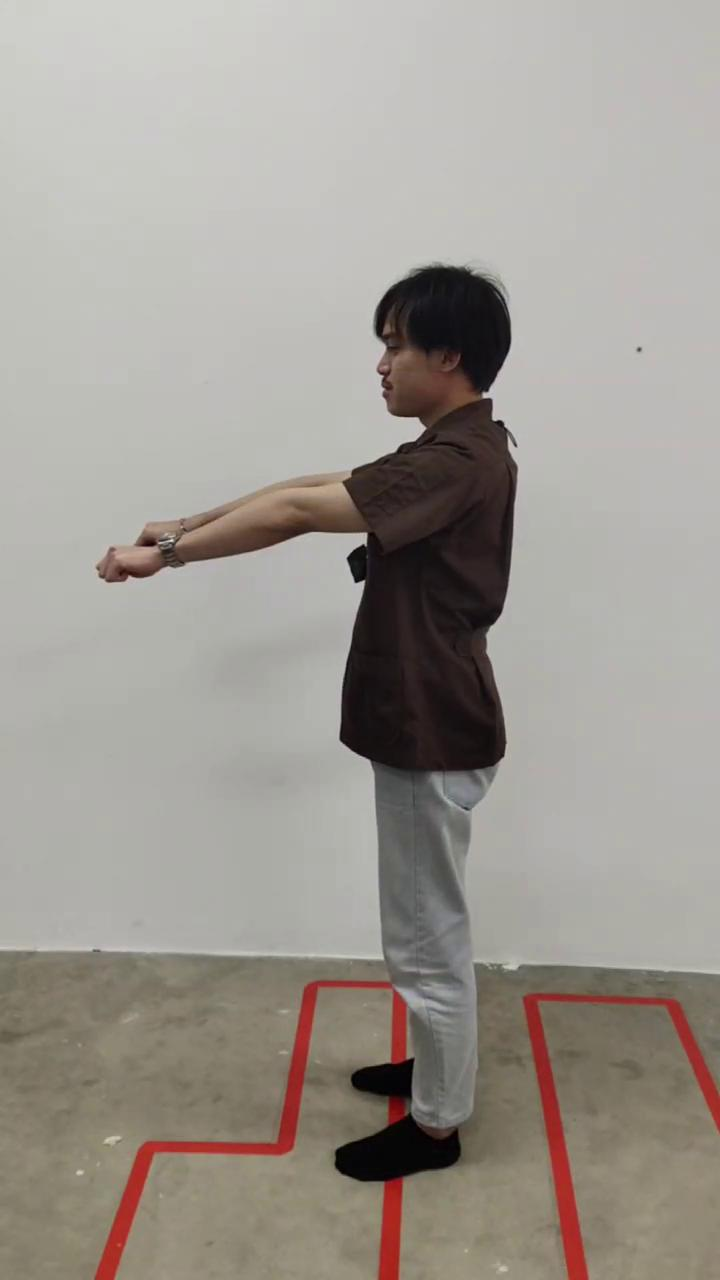squat up: (98, 265, 518, 1179)
